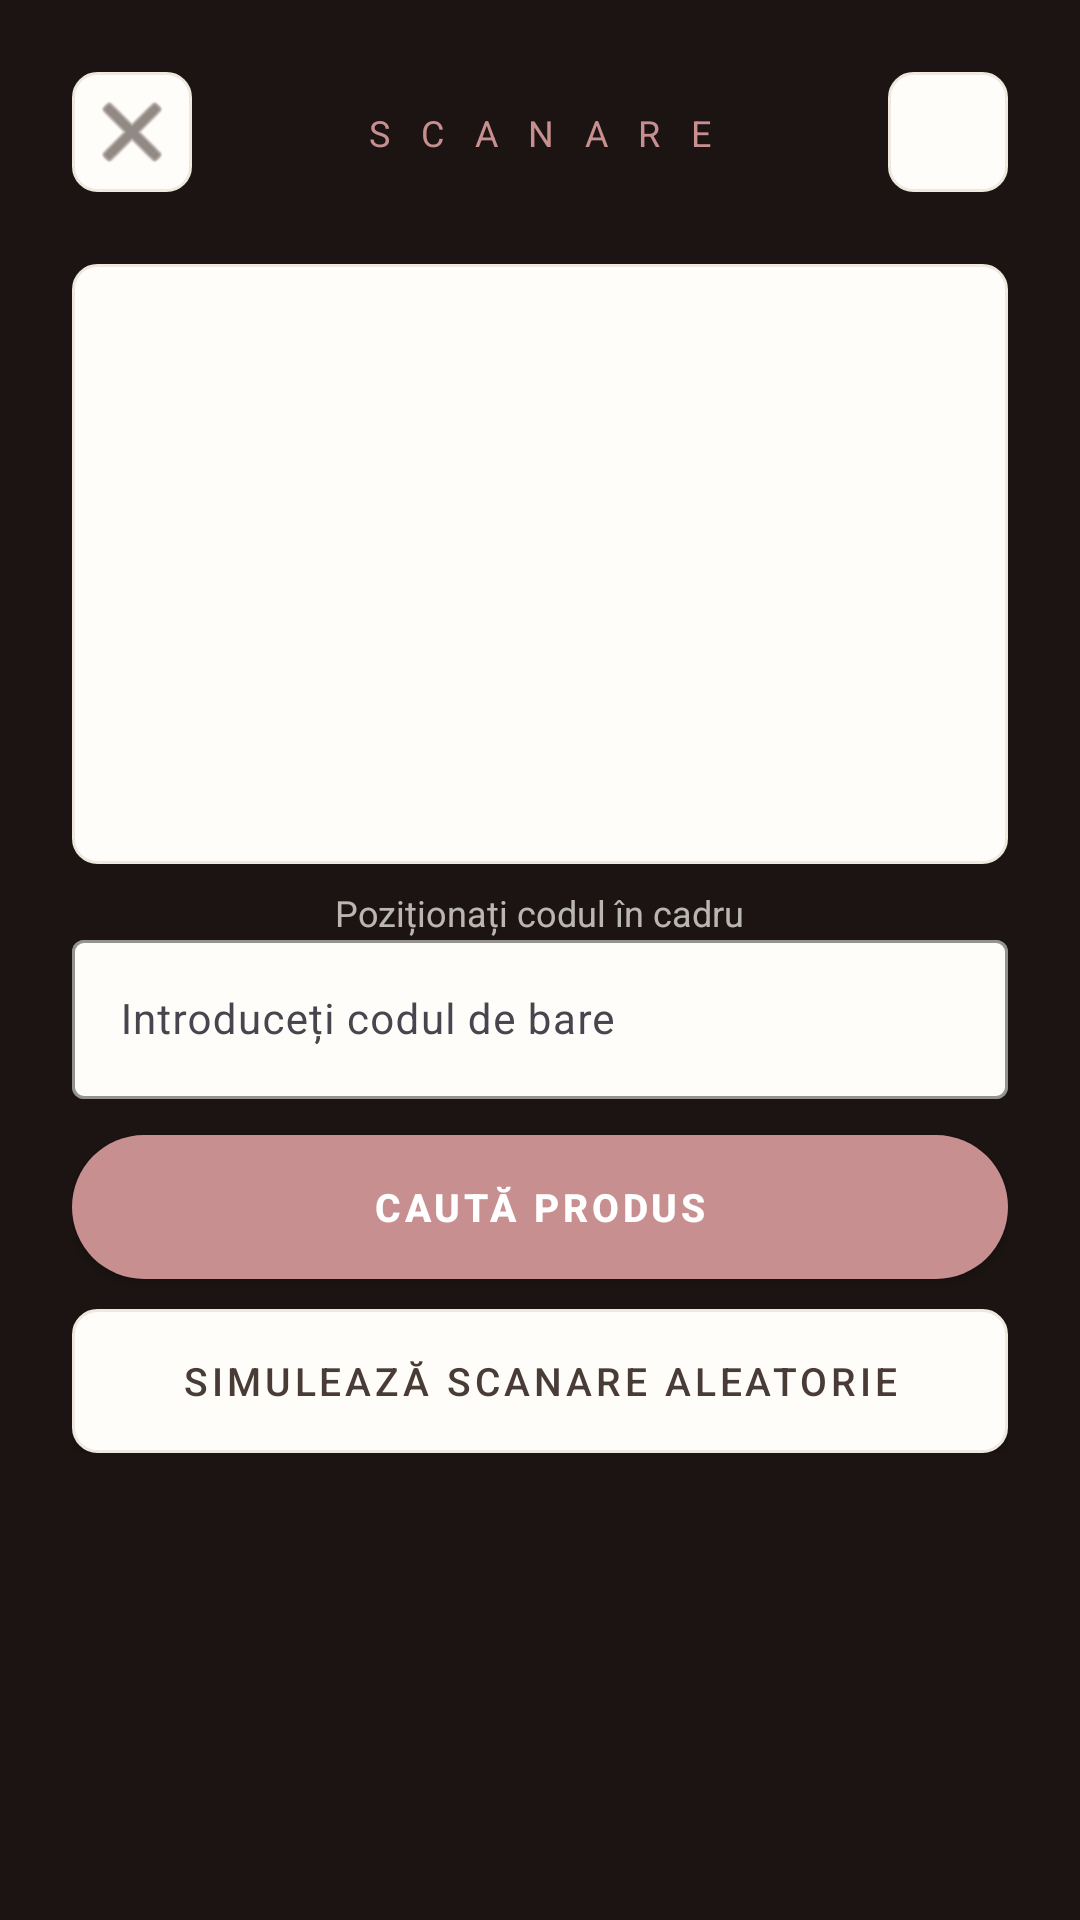

Screen size 1080x1920. Icon name, then its center in pixels as point (x, y):
Închide: point (132, 132)
